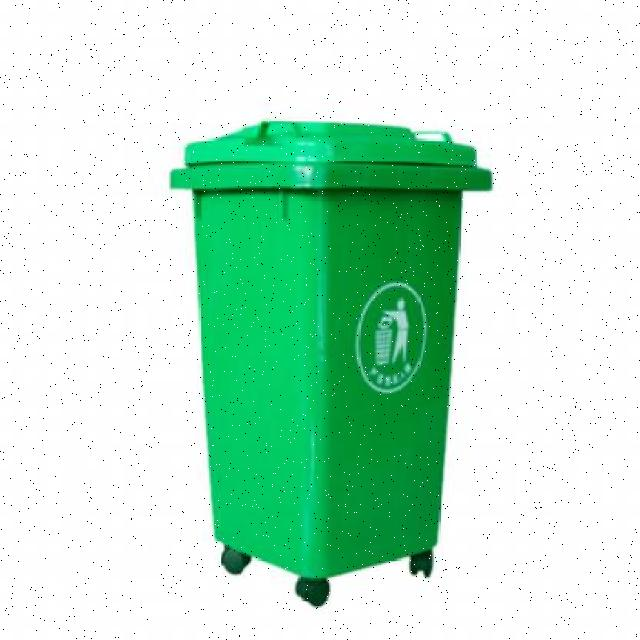garbage container: (148, 98, 506, 632)
